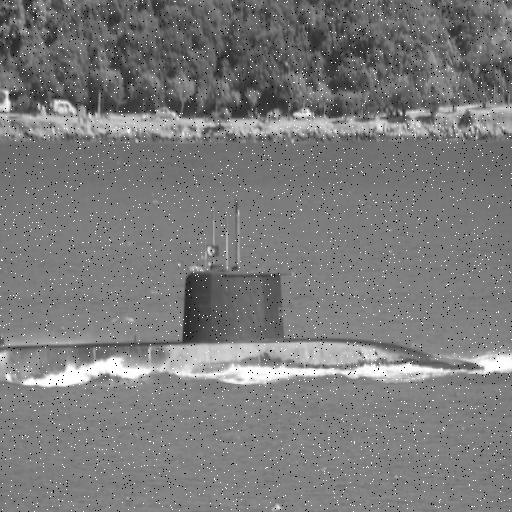submarine: (1, 269, 512, 375)
